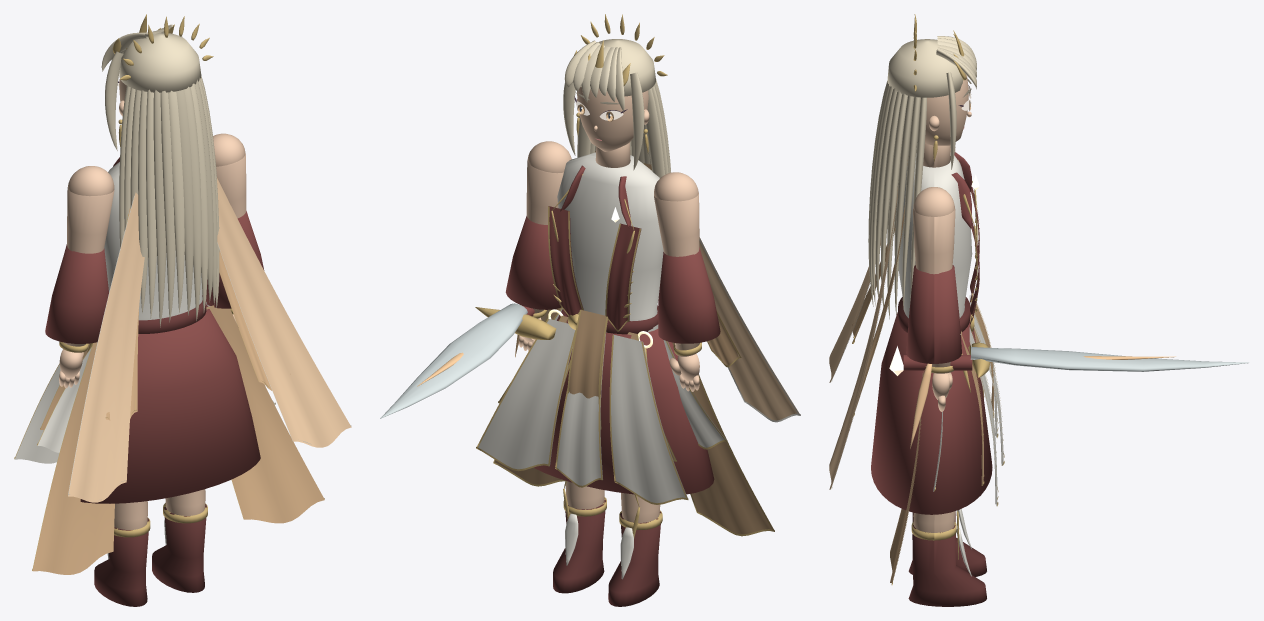
File: character_20.glb
The picture shows the model from 3 angles, left to right: view 1: azimuth 30°, elevation 25°; view 2: azimuth 150°, elevation 25°; view 3: azimuth 270°, elevation 25°; orthographic projection. The views are drawn at different scales.
Parts seen in each view (by area): view 1: _MeshInstance3D_5901, _MeshInstance3D_5970, _MeshInstance3D_5933, _MeshInstance3D_5935, _MeshInstance3D_5908, _MeshInstance3D_5971, _MeshInstance3D_5906, _MeshInstance3D_5972, _MeshInstance3D_5942, _MeshInstance3D_5941, _MeshInstance3D_5946, _MeshInstance3D_5938 (+11 smaller); view 2: _MeshInstance3D_5897, _MeshInstance3D_5901, _MeshInstance3D_5902, _MeshInstance3D_5904, _MeshInstance3D_5970, _MeshInstance3D_5942, _MeshInstance3D_5941, _MeshInstance3D_5933, _MeshInstance3D_5951, _MeshInstance3D_5906, _MeshInstance3D_5923, _MeshInstance3D_5950 (+20 smaller); view 3: _MeshInstance3D_5901, _MeshInstance3D_5970, _MeshInstance3D_5950, _MeshInstance3D_5949, _MeshInstance3D_5946, _MeshInstance3D_5951, _MeshInstance3D_5897, _MeshInstance3D_5971, _MeshInstance3D_5972, _MeshInstance3D_5957, _MeshInstance3D_5935, _MeshInstance3D_5933 (+7 smaller).
Part boxes in pixels (<box>): _MeshInstance3D_5901: <box>80,157,260,503</box>; _MeshInstance3D_5970: <box>101,24,219,318</box>; _MeshInstance3D_5933: <box>68,192,144,502</box>; _MeshInstance3D_5935: <box>216,177,351,447</box>; _MeshInstance3D_5908: <box>206,305,324,523</box>; _MeshInstance3D_5971: <box>119,78,217,322</box>; _MeshInstance3D_5906: <box>32,342,114,574</box>; _MeshInstance3D_5972: <box>130,76,219,327</box>; _MeshInstance3D_5942: <box>45,244,108,343</box>; _MeshInstance3D_5941: <box>59,166,114,388</box>; _MeshInstance3D_5946: <box>152,504,206,592</box>; _MeshInstance3D_5938: <box>94,518,149,606</box>; _MeshInstance3D_5897: <box>557,152,663,332</box>; _MeshInstance3D_5901: <box>534,165,714,494</box>; _MeshInstance3D_5902: <box>611,334,687,503</box>; _MeshInstance3D_5904: <box>478,318,575,469</box>; _MeshInstance3D_5970: <box>563,39,668,174</box>; _MeshInstance3D_5942: <box>658,247,720,343</box>; _MeshInstance3D_5941: <box>654,172,699,391</box>; _MeshInstance3D_5933: <box>650,164,799,420</box>; _MeshInstance3D_5951: <box>380,303,527,418</box>; _MeshInstance3D_5906: <box>672,342,773,534</box>; _MeshInstance3D_5923: <box>557,332,606,485</box>; _MeshInstance3D_5950: <box>505,215,561,316</box>; _MeshInstance3D_5901: <box>871,152,992,514</box>; _MeshInstance3D_5970: <box>871,36,976,319</box>; _MeshInstance3D_5950: <box>903,265,972,370</box>; _MeshInstance3D_5949: <box>913,187,955,411</box>; _MeshInstance3D_5946: <box>908,525,986,606</box>; _MeshInstance3D_5951: <box>970,347,1249,371</box>; _MeshInstance3D_5897: <box>898,152,972,318</box>; _MeshInstance3D_5971: <box>869,84,920,309</box>; _MeshInstance3D_5972: <box>868,81,914,314</box>; _MeshInstance3D_5957: <box>920,75,971,145</box>; _MeshInstance3D_5935: <box>829,185,898,489</box>; _MeshInstance3D_5933: <box>829,238,880,382</box>.
Size of the model in its own units: 1.3 by 2.46 by 1.66.
